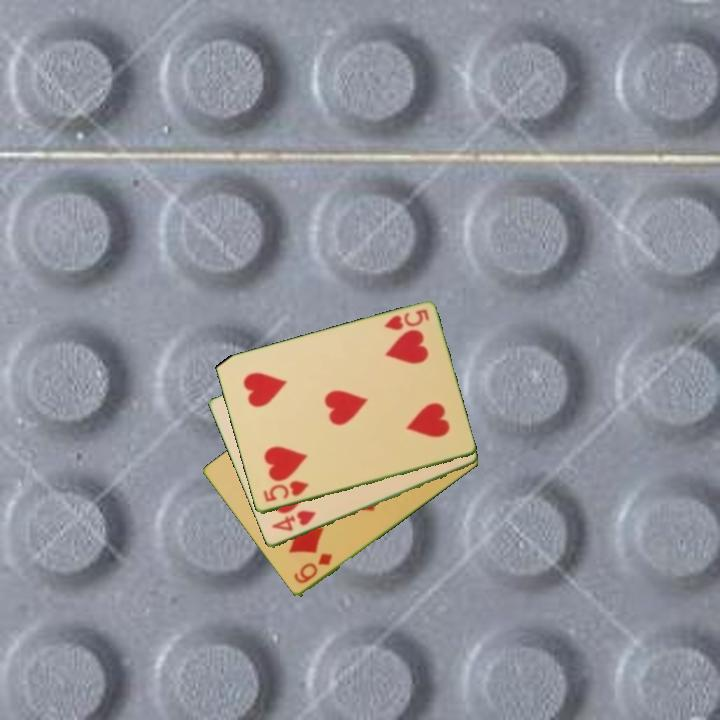4h: (268, 507, 319, 534)
5h: (259, 477, 311, 505), (381, 306, 432, 334)
6d: (290, 550, 335, 587)
